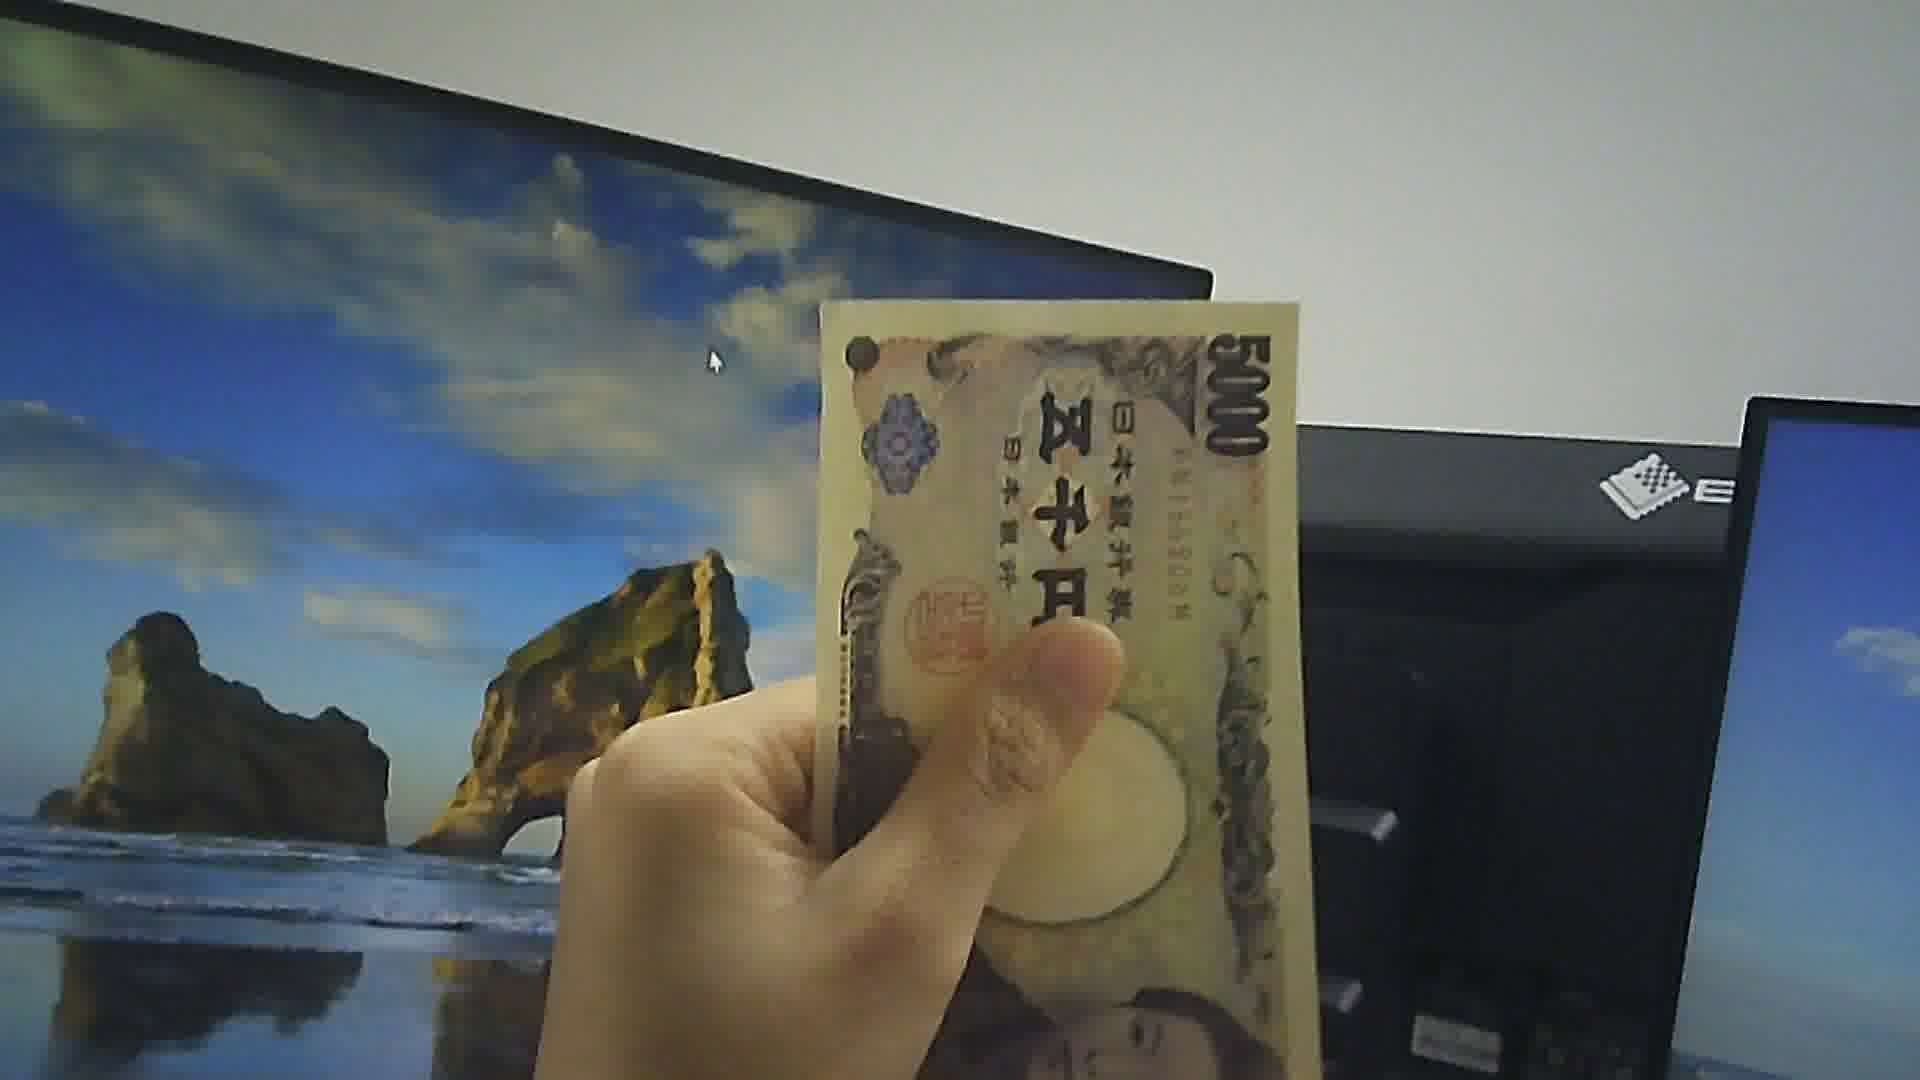5,000 Yen: (778, 282, 1338, 1079)
